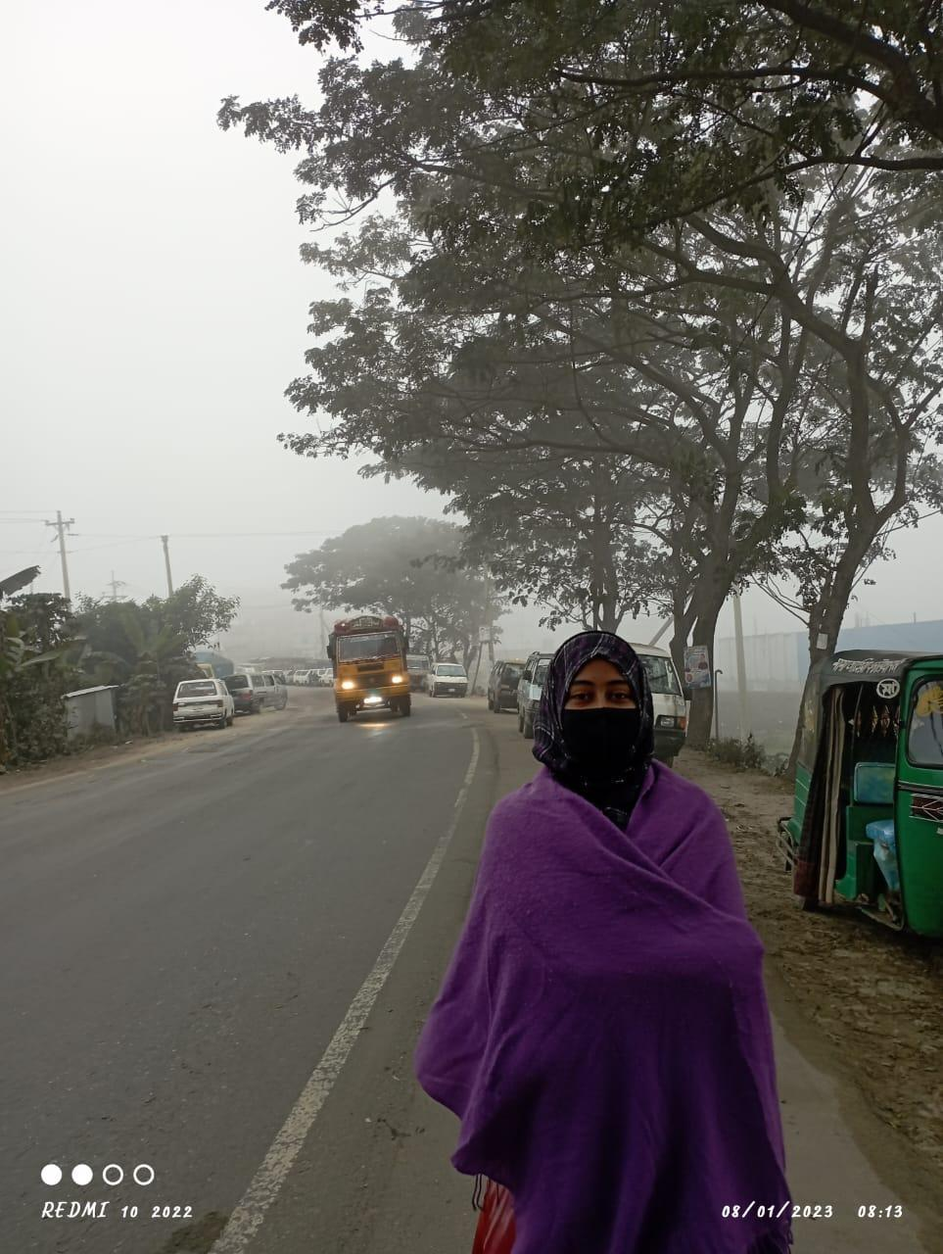Car: (163, 673, 240, 728), (424, 653, 476, 702)
Truck: (323, 607, 416, 722)
